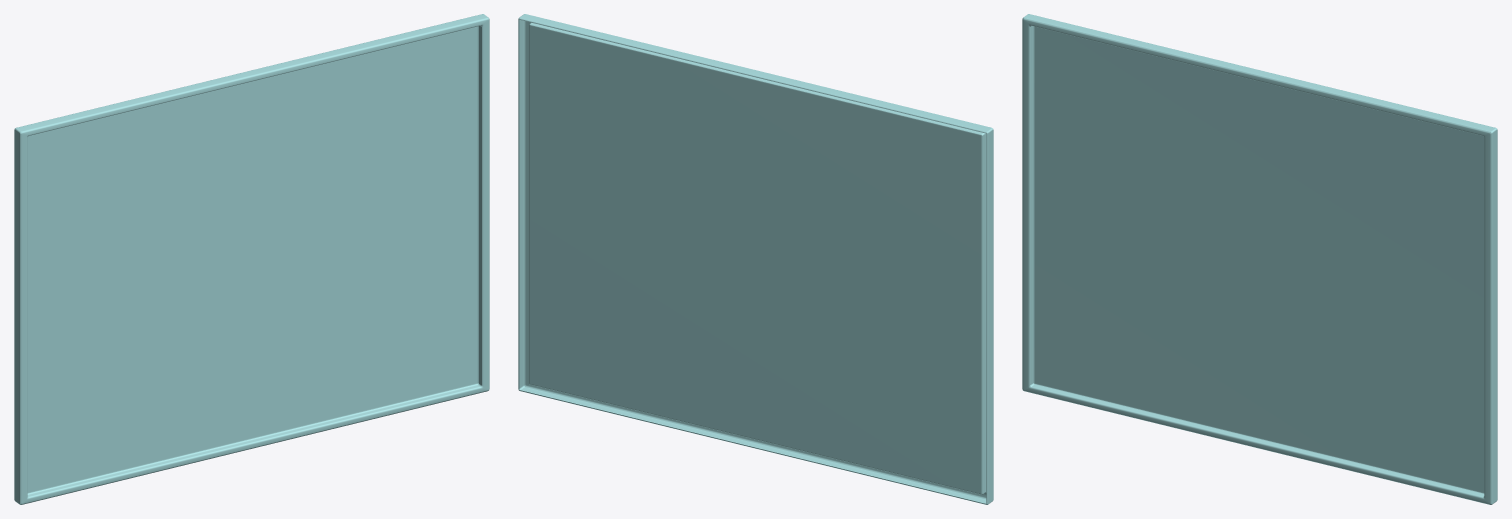
The model's file is mirror.fbx.
3 renders of one model, left to right at view 1: azimuth 30°, elevation 25°; view 2: azimuth 150°, elevation 25°; view 3: azimuth 330°, elevation 25°, orthographic.
Parts seen in each view (by area): view 1: mirror; view 2: mirror; view 3: mirror.
Boxes of the visible parts, x1=… form: mirror: x1=14, y1=14, x2=489, y2=504; mirror: x1=518, y1=14, x2=993, y2=504; mirror: x1=1022, y1=14, x2=1497, y2=504.
Size of the model in its own units: 54.41 by 41.33 by 1.29.
